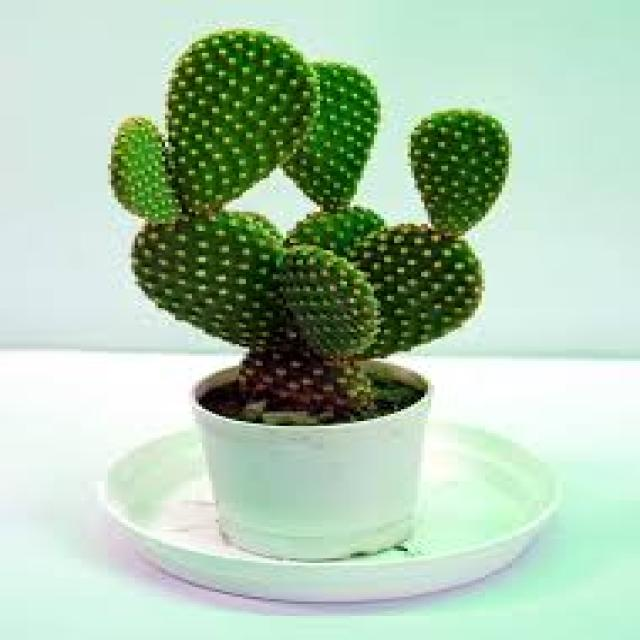cactus: (92, 16, 589, 353)
